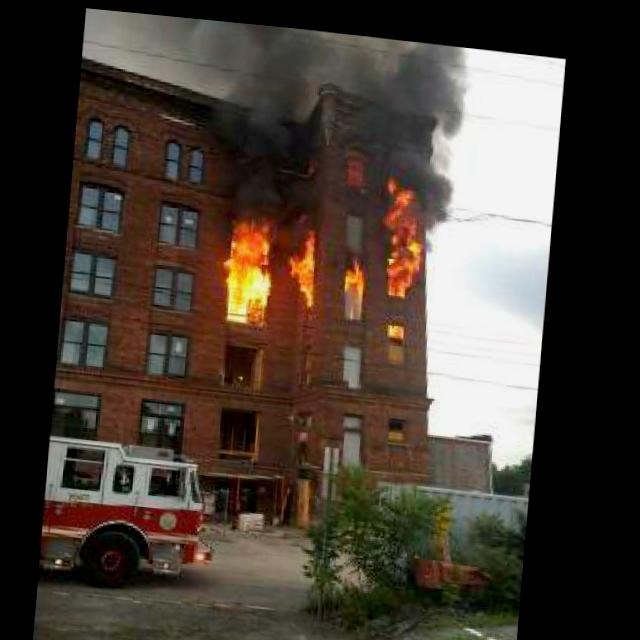helmet: (208, 161, 439, 336)
no_helmet: (159, 13, 491, 212)
